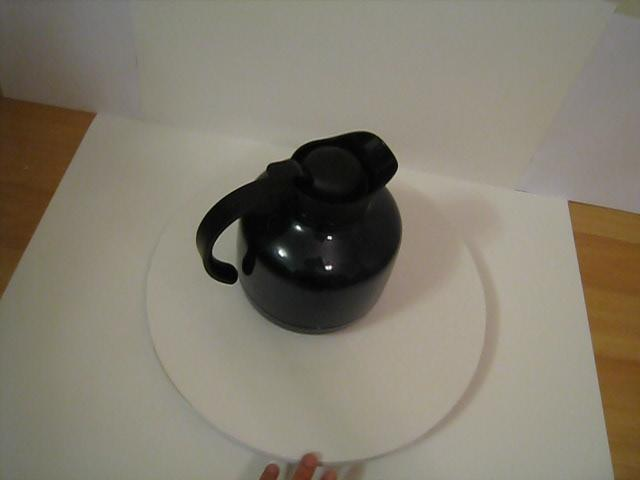pitcher: (193, 116, 414, 375)
